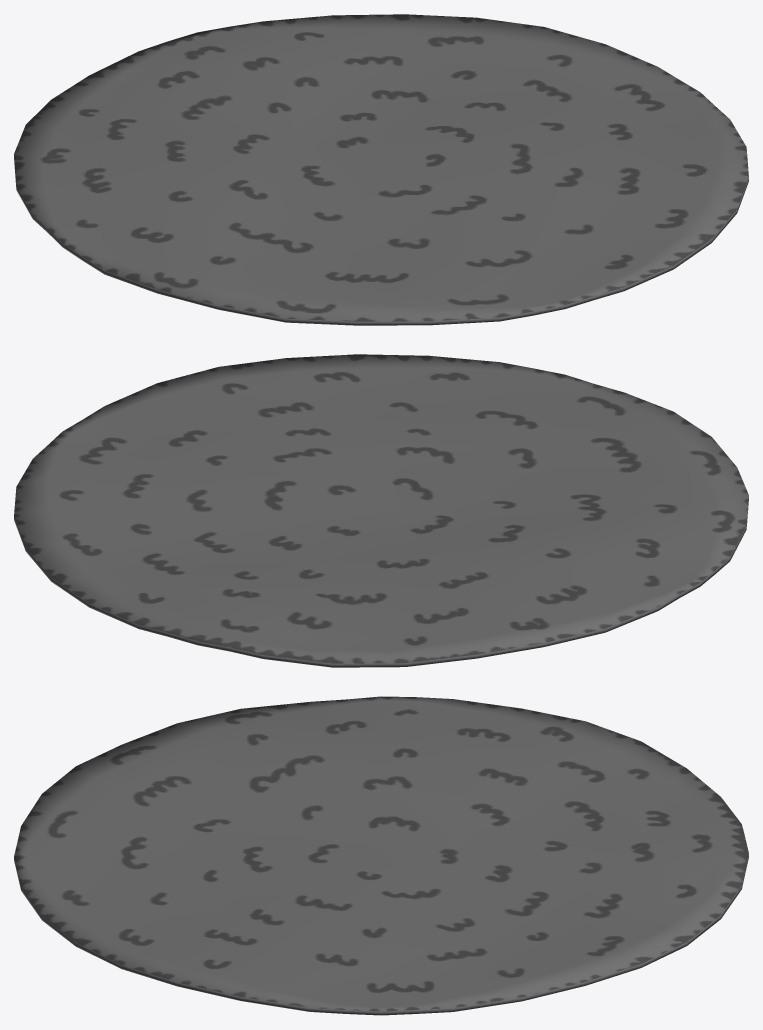
File: carpet.fbx
3 views of the same model, one above another, from view 1: azimuth 30°, elevation 25°; view 2: azimuth 150°, elevation 25°; view 3: azimuth 270°, elevation 25° (orthographic).
Visible parts, largest first — view 1: carpet; view 2: carpet; view 3: carpet.
Boxes of the visible parts, x1=… form: carpet: x1=14, y1=14, x2=748, y2=325; carpet: x1=14, y1=354, x2=748, y2=667; carpet: x1=14, y1=696, x2=748, y2=1015.
Bounding box in the file's own units: 3.38 × 3.38 × 0.1036.
1 material, 1 textured.
